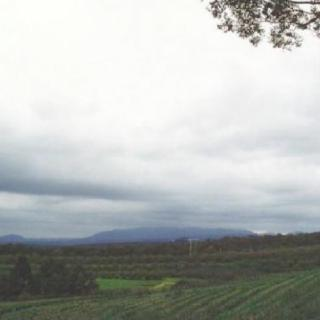Stratocumulus: (0, 0, 320, 243)
